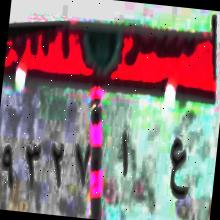2: (46, 139, 68, 193)
3: (16, 135, 45, 192)
7: (70, 133, 93, 185)
9: (0, 139, 18, 193)
ain: (162, 135, 192, 209)
alif: (112, 124, 138, 182)
